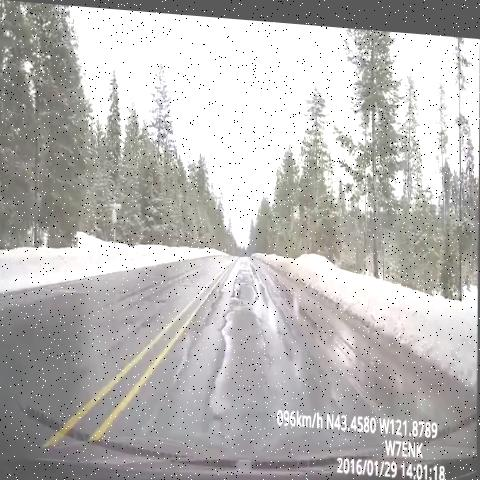pothole: (207, 257, 269, 429)
